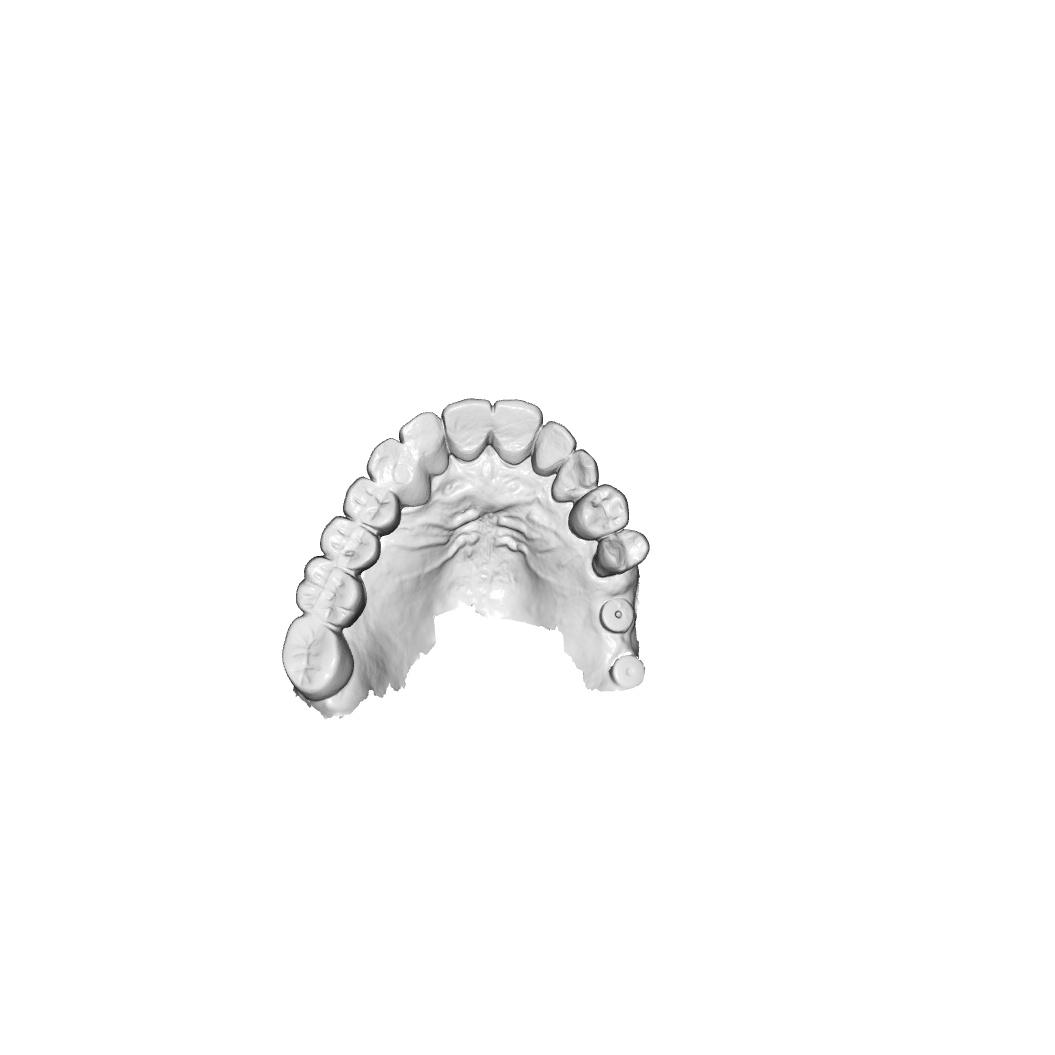canine: (365, 437, 432, 508), (551, 447, 599, 504)
implant: (599, 597, 635, 634), (610, 654, 646, 690)
incisor: (398, 410, 450, 477), (493, 398, 544, 466), (441, 397, 493, 462), (530, 420, 578, 477)
molar: (281, 614, 355, 702), (295, 555, 368, 629)
premolar: (342, 475, 402, 538), (319, 515, 382, 574), (567, 483, 630, 541), (591, 528, 650, 578)
